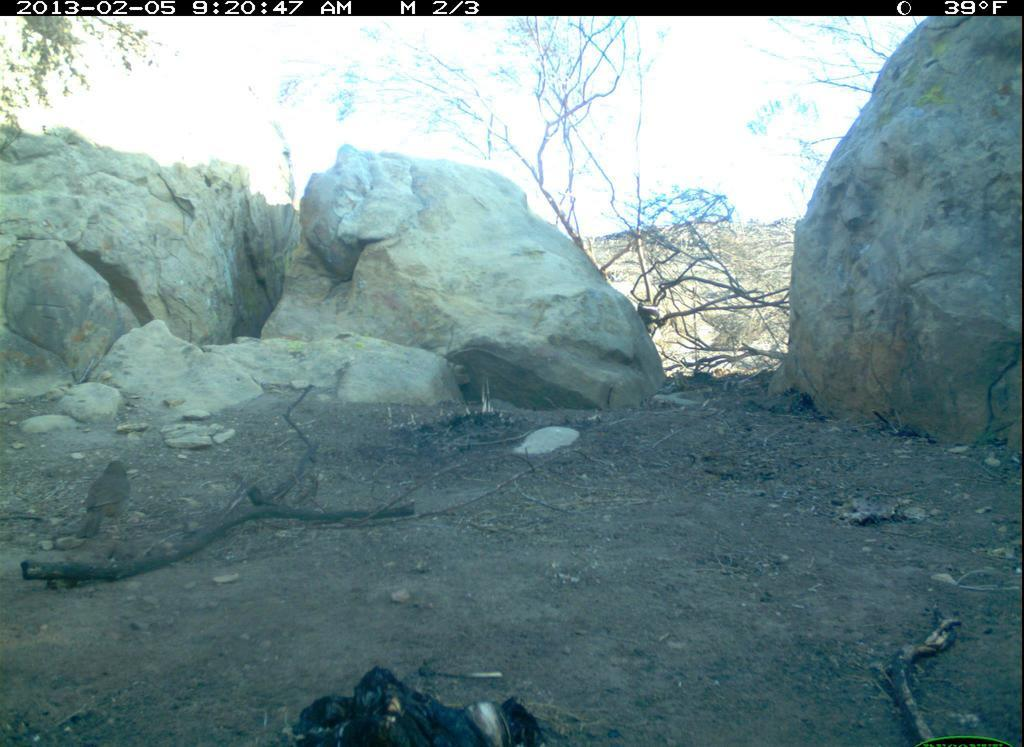bird: (68, 445, 161, 553)
